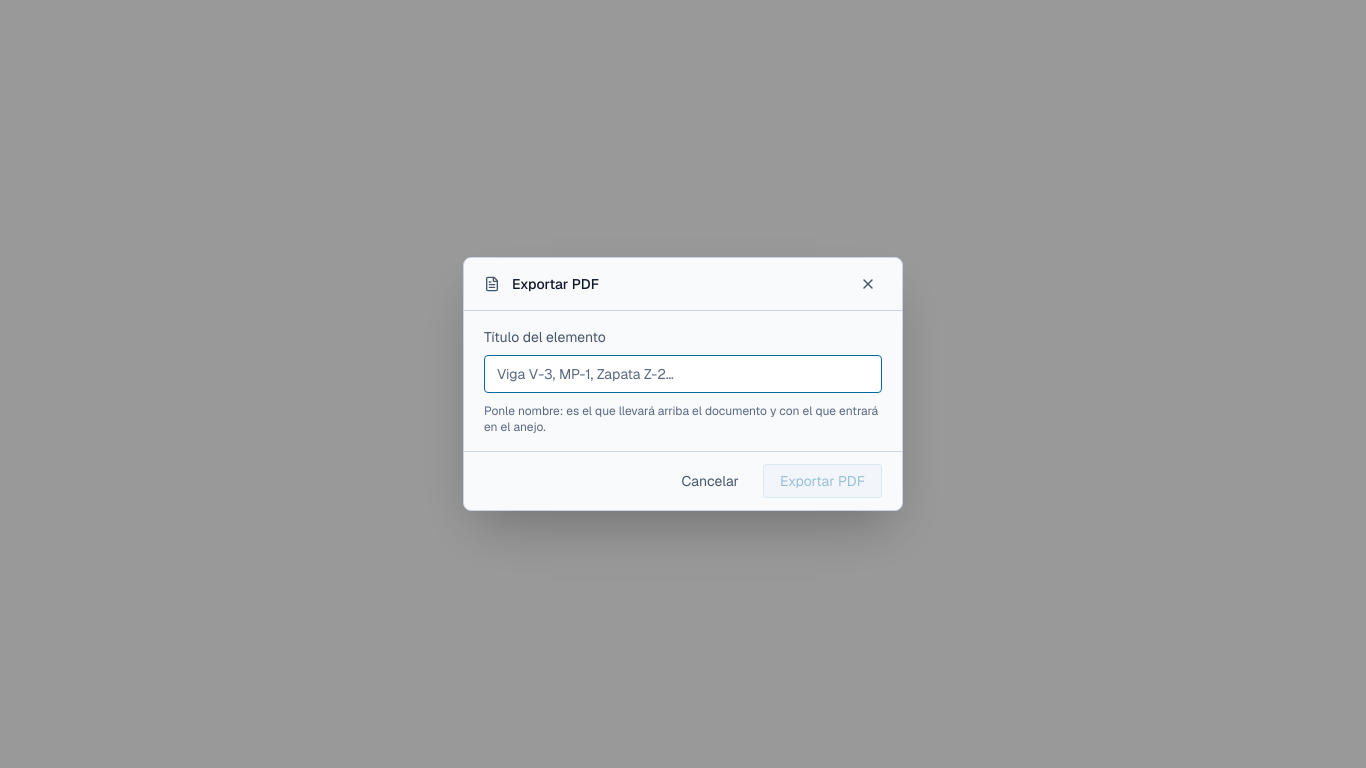
Test case: TitlePromptModal › preview del nombre = slug del título (WYSIWYG, misma titledFilename)
Type "Dintel de ventana" into the field labelled "Título del elemento" at (683, 374), box [484, 355, 882, 393]
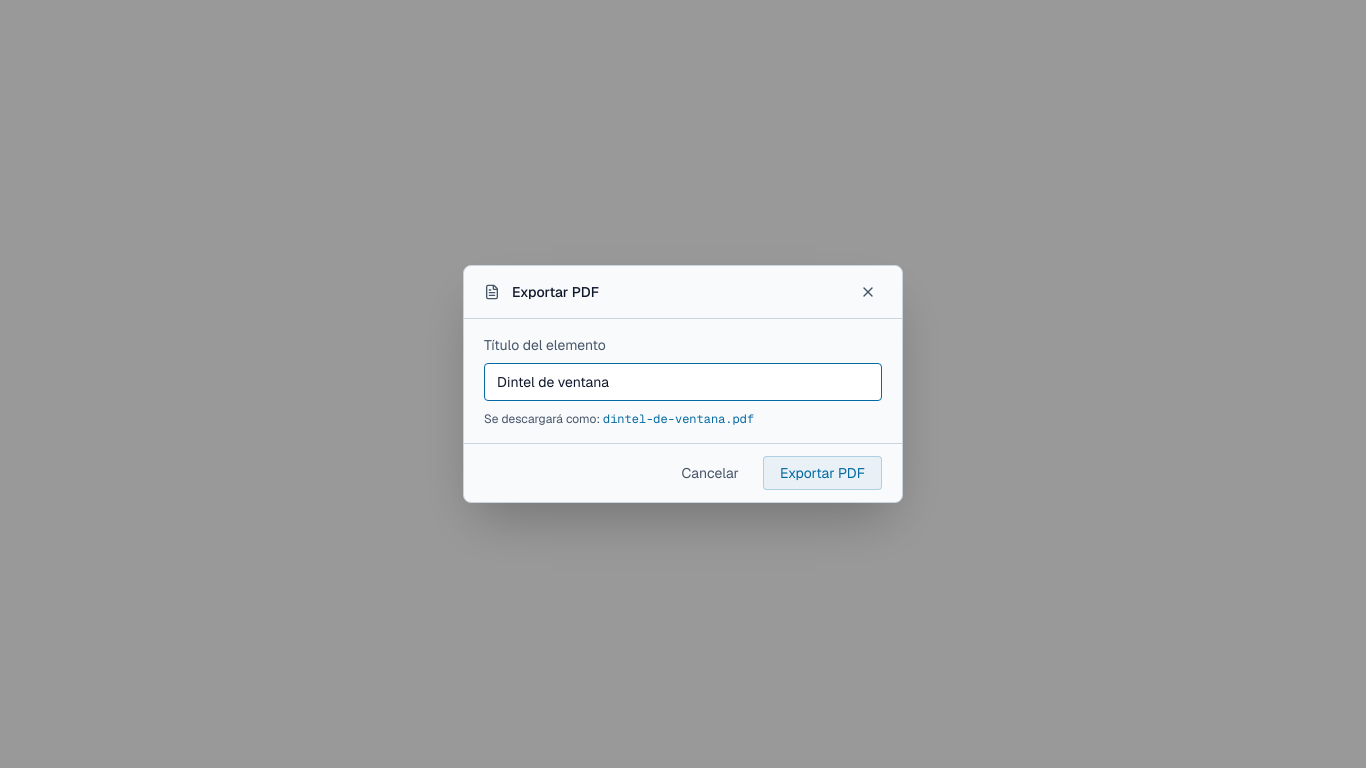
Expected: the text "dintel-de-ventana.pdf" is shown, [603, 411, 754, 427]
